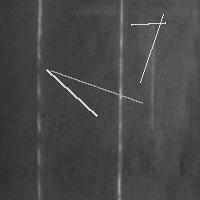scratches: (46, 66, 147, 108), (42, 65, 102, 121), (113, 1, 127, 198), (135, 9, 168, 87), (33, 1, 45, 198), (126, 17, 170, 29)
